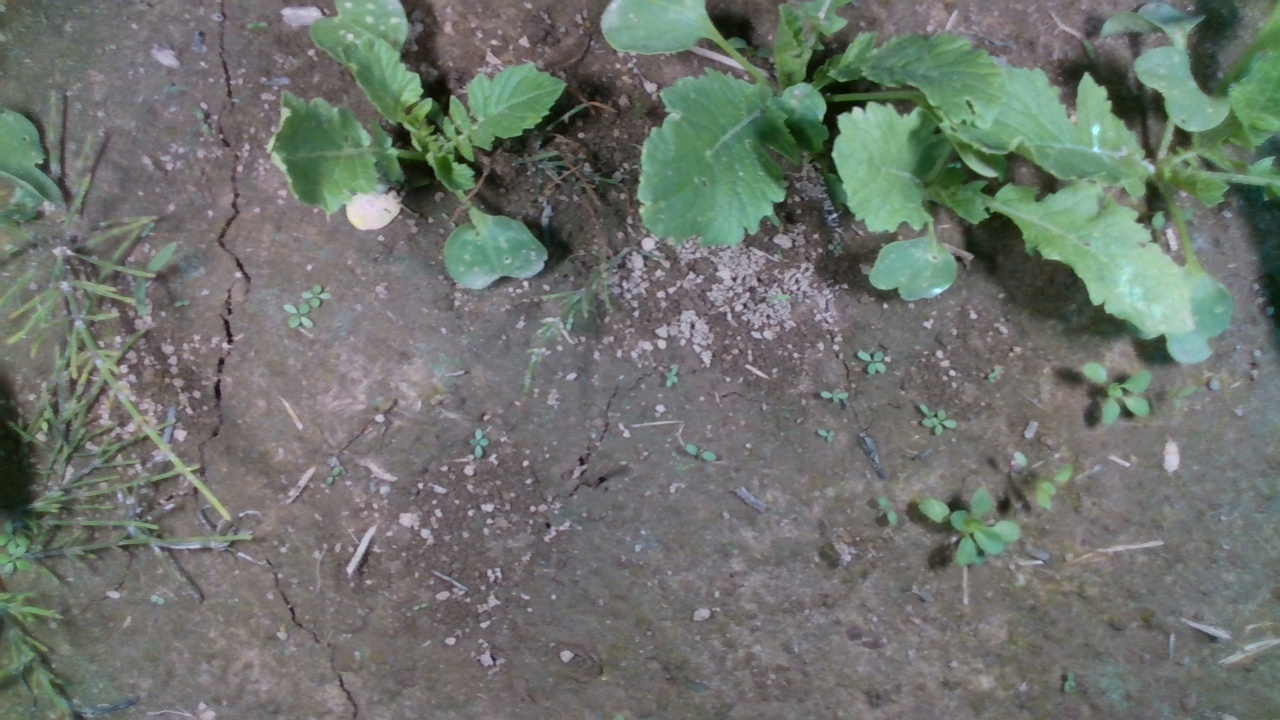weed: (1078, 360, 1152, 430), (855, 349, 889, 376), (465, 426, 490, 460), (682, 442, 718, 463), (817, 386, 851, 407), (660, 364, 681, 389), (813, 425, 838, 445), (242, 17, 269, 33)
